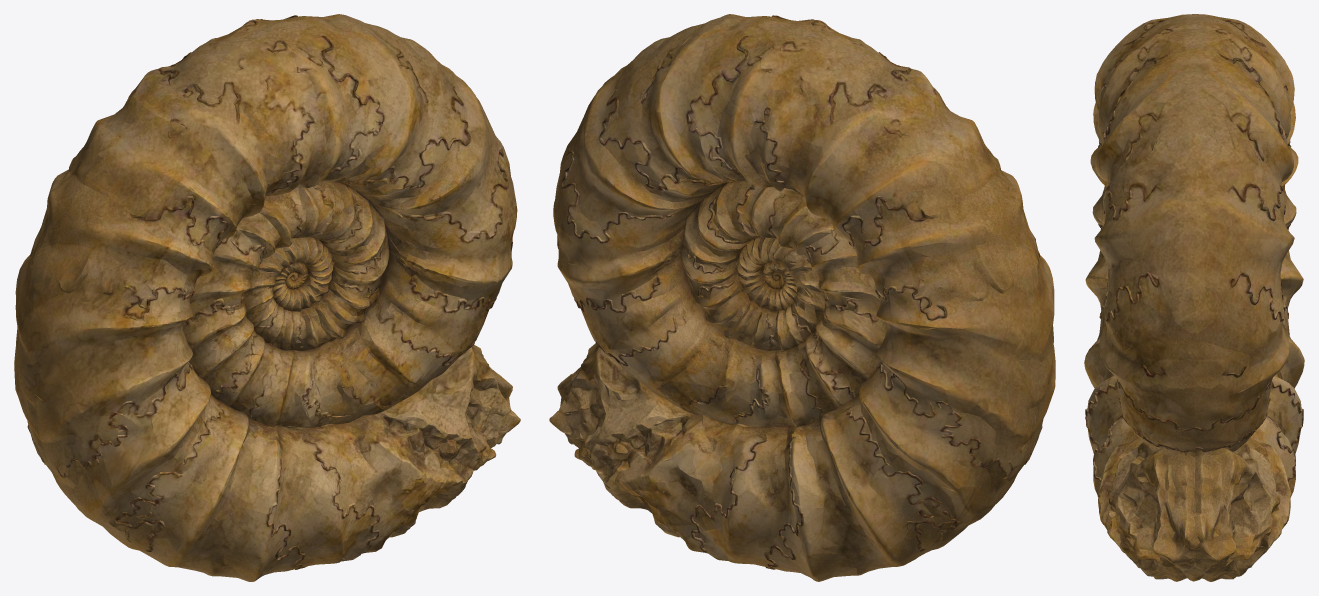
3 renders of one model, left to right at view 1: azimuth 30°, elevation 25°; view 2: azimuth 150°, elevation 25°; view 3: azimuth 270°, elevation 25°, orthographic. The views are drawn at different scales.
Parts seen in each view (by area): view 1: Mesh_0; view 2: Mesh_0; view 3: Mesh_0.
Part boxes in pixels (x1,y1,x2,y2): Mesh_0: (14, 14, 520, 581); Mesh_0: (549, 14, 1055, 581); Mesh_0: (1084, 14, 1304, 581).
Size of the model in its own units: 1.78 by 1.9 by 0.7368.
1 material, 1 textured.
